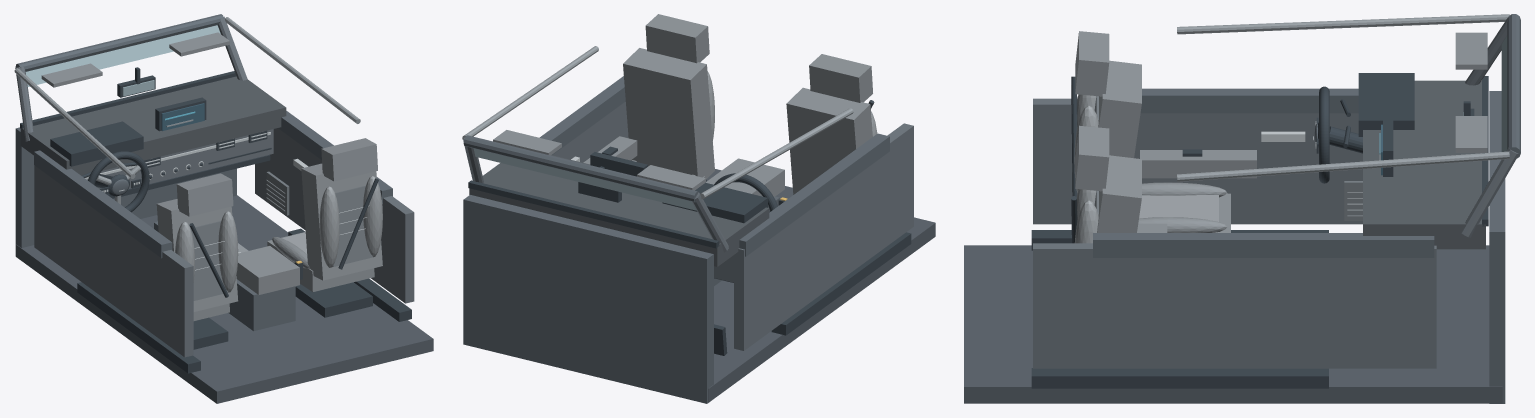
File: sedan_cabin.glb
The picture shows the model from 3 angles, left to right: view 1: azimuth 30°, elevation 25°; view 2: azimuth 150°, elevation 25°; view 3: azimuth 270°, elevation 25°; orthographic projection. The views are drawn at different scales.
Visible parts, largest first — view 1: Carpet_floor_000, Door_inner_card_007, Dashboard_top_002, Door_inner_card_019, Front_firewall_001, Seat_backrest_118, Door_upper_rail_008, Dashboard_lower_003, Cluster_hood_040, Center_tunnel_083, Padded_center_armrest_093, Windshield_sunshade_tint_036 (+31 smaller); view 2: Front_firewall_001, Door_inner_card_007, Seat_backrest_118, Dashboard_top_002, Seat_backrest_099, Carpet_floor_000, Door_upper_rail_008, Windshield_roof_front_0_035, Headrest_pad_128, Headrest_pad_109, Windshield_bottom_seal_006, Threshold_sill_018 (+14 smaller); view 3: Door_inner_card_019, Carpet_floor_000, Door_inner_card_007, Dashboard_top_002, Door_upper_rail_020, Threshold_sill_030, Door_upper_rail_008, Front_firewall_001, Seat_backrest_099, Cluster_hood_040, Seat_backrest_118, Door_armrest_009 (+22 smaller).
Part boxes in pixels (x1,y1,x2,y2): Carpet_floor_000: (16, 195, 433, 403); Door_inner_card_007: (34, 165, 193, 357); Dashboard_top_002: (20, 76, 286, 175); Door_inner_card_019: (255, 128, 414, 303); Front_firewall_001: (15, 127, 236, 256); Seat_backrest_118: (301, 163, 382, 280); Door_upper_rail_008: (34, 150, 172, 258); Dashboard_lower_003: (86, 129, 273, 188); Cluster_hood_040: (50, 121, 143, 166); Center_tunnel_083: (154, 221, 295, 331); Padded_center_armrest_093: (236, 246, 299, 294); Windshield_sunshade_tint_036: (25, 25, 220, 86); Front_firewall_001: (463, 195, 713, 403); Door_inner_card_007: (734, 123, 913, 350); Seat_backrest_118: (623, 48, 714, 179); Dashboard_top_002: (469, 155, 769, 266); Seat_backrest_099: (786, 87, 872, 194); Carpet_floor_000: (706, 169, 935, 402); Door_upper_rail_008: (739, 133, 889, 256); Windshield_roof_front_0_035: (463, 135, 698, 202); Headrest_pad_128: (645, 14, 709, 63); Headrest_pad_109: (809, 54, 872, 102); Windshield_bottom_seal_006: (468, 180, 719, 248); Threshold_sill_018: (771, 232, 911, 335); Door_inner_card_019: (1033, 243, 1436, 368); Carpet_floor_000: (964, 245, 1502, 403); Door_inner_card_007: (1033, 98, 1362, 224); Dashboard_top_002: (1363, 80, 1485, 249); Door_upper_rail_020: (1093, 233, 1434, 257); Threshold_sill_030: (1031, 368, 1328, 388); Door_upper_rail_008: (1140, 88, 1358, 113); Front_firewall_001: (1489, 91, 1505, 403); Seat_backrest_099: (1098, 60, 1141, 158); Cluster_hood_040: (1358, 73, 1414, 136); Seat_backrest_118: (1097, 155, 1141, 232); Door_armrest_009: (1140, 150, 1256, 178).
Size of the model in its own units: 2.36 by 1.84 by 3.67.
